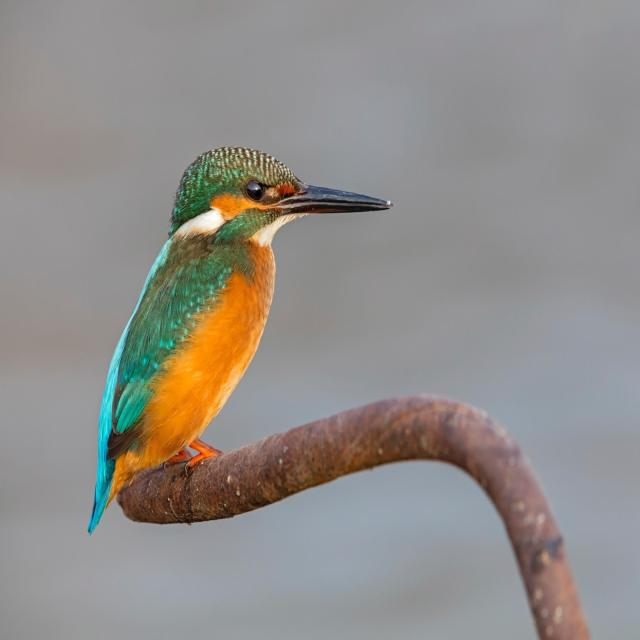kingfisher: (79, 136, 402, 551)
